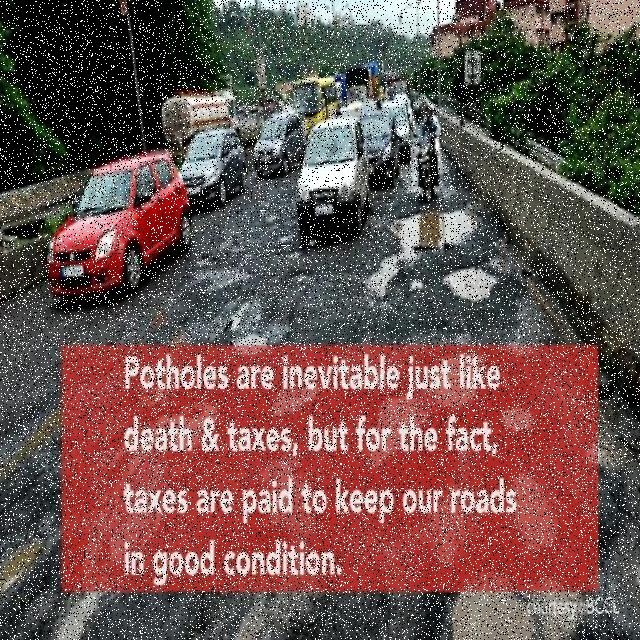pothole: (46, 469, 168, 640), (224, 526, 335, 640), (362, 209, 476, 300), (441, 564, 538, 640), (506, 470, 554, 554), (534, 569, 583, 640), (0, 536, 45, 602), (440, 267, 497, 308), (174, 265, 251, 294), (272, 378, 323, 420), (230, 295, 256, 332)
